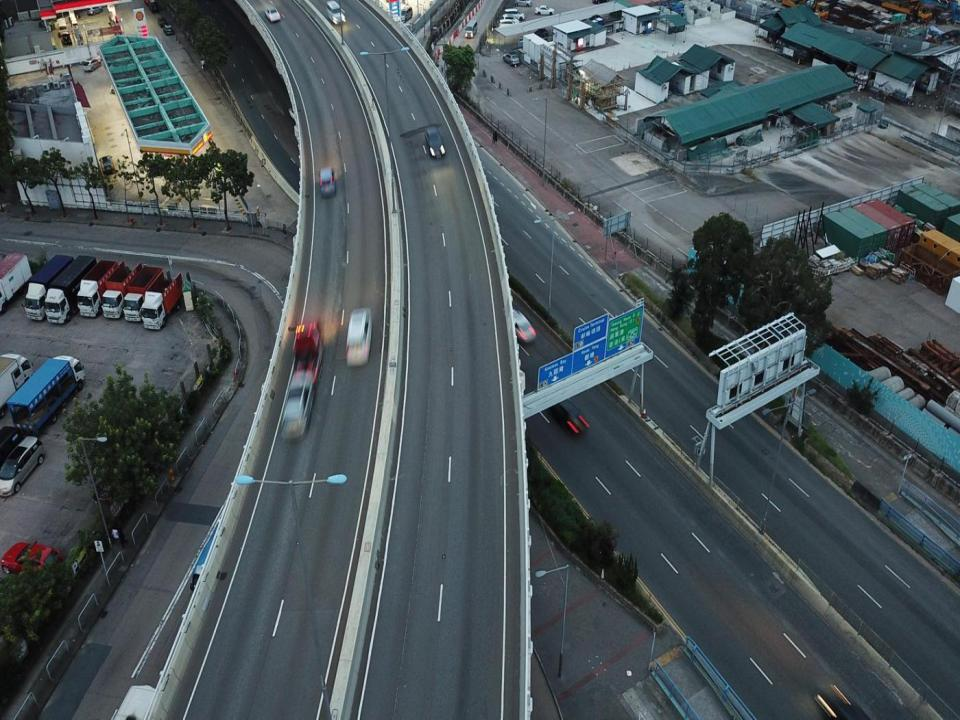car: (0, 439, 40, 498), (544, 393, 592, 438), (344, 307, 374, 365), (507, 304, 537, 344), (423, 124, 447, 160), (318, 166, 338, 198), (99, 152, 116, 172), (263, 5, 281, 23), (81, 58, 101, 73), (503, 6, 522, 20), (533, 4, 557, 14), (504, 49, 518, 66), (60, 31, 74, 46), (86, 4, 103, 16), (513, 1, 532, 10), (501, 13, 517, 23), (155, 16, 169, 26), (162, 24, 173, 36), (499, 22, 516, 29)
truck: (280, 316, 326, 439), (4, 356, 88, 418), (44, 254, 100, 329), (22, 251, 74, 321), (78, 258, 119, 320), (143, 270, 183, 332), (122, 264, 163, 324), (102, 260, 143, 320), (0, 350, 34, 416), (0, 250, 34, 312)
van: (324, 1, 346, 25), (464, 18, 476, 40), (400, 4, 413, 24)
